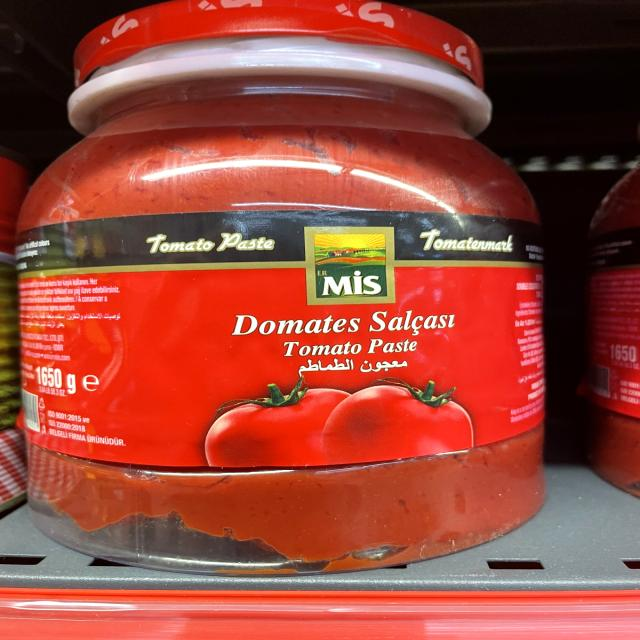tomato paste: (16, 11, 552, 568)
